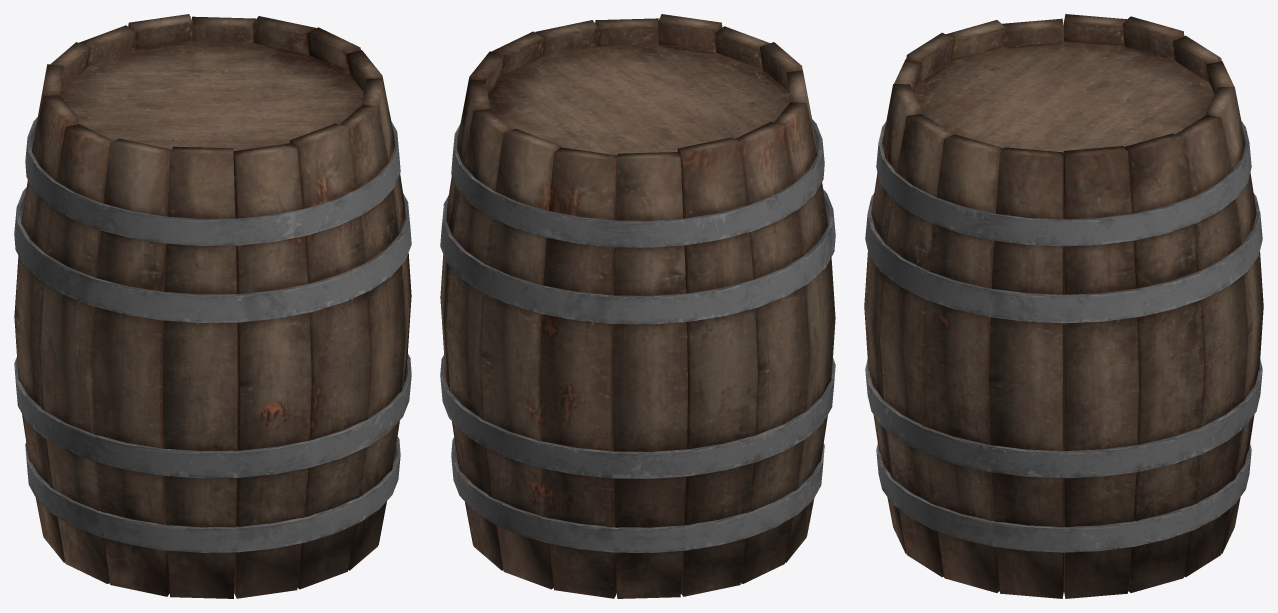
File: old_wood_barrel.glb
The picture shows the model from 3 angles, left to right: view 1: azimuth 30°, elevation 25°; view 2: azimuth 150°, elevation 25°; view 3: azimuth 270°, elevation 25°; orthographic projection.
Visible parts, largest first — view 1: Barrel; view 2: Barrel; view 3: Barrel.
Boxes of the visible parts, bbox=[...] form: Barrel: bbox=[14, 14, 411, 598]; Barrel: bbox=[440, 14, 835, 598]; Barrel: bbox=[864, 14, 1263, 598].
Size of the model in its own units: 84.64 by 104 by 84.64.
Materials: 1 (1 with a texture image).
